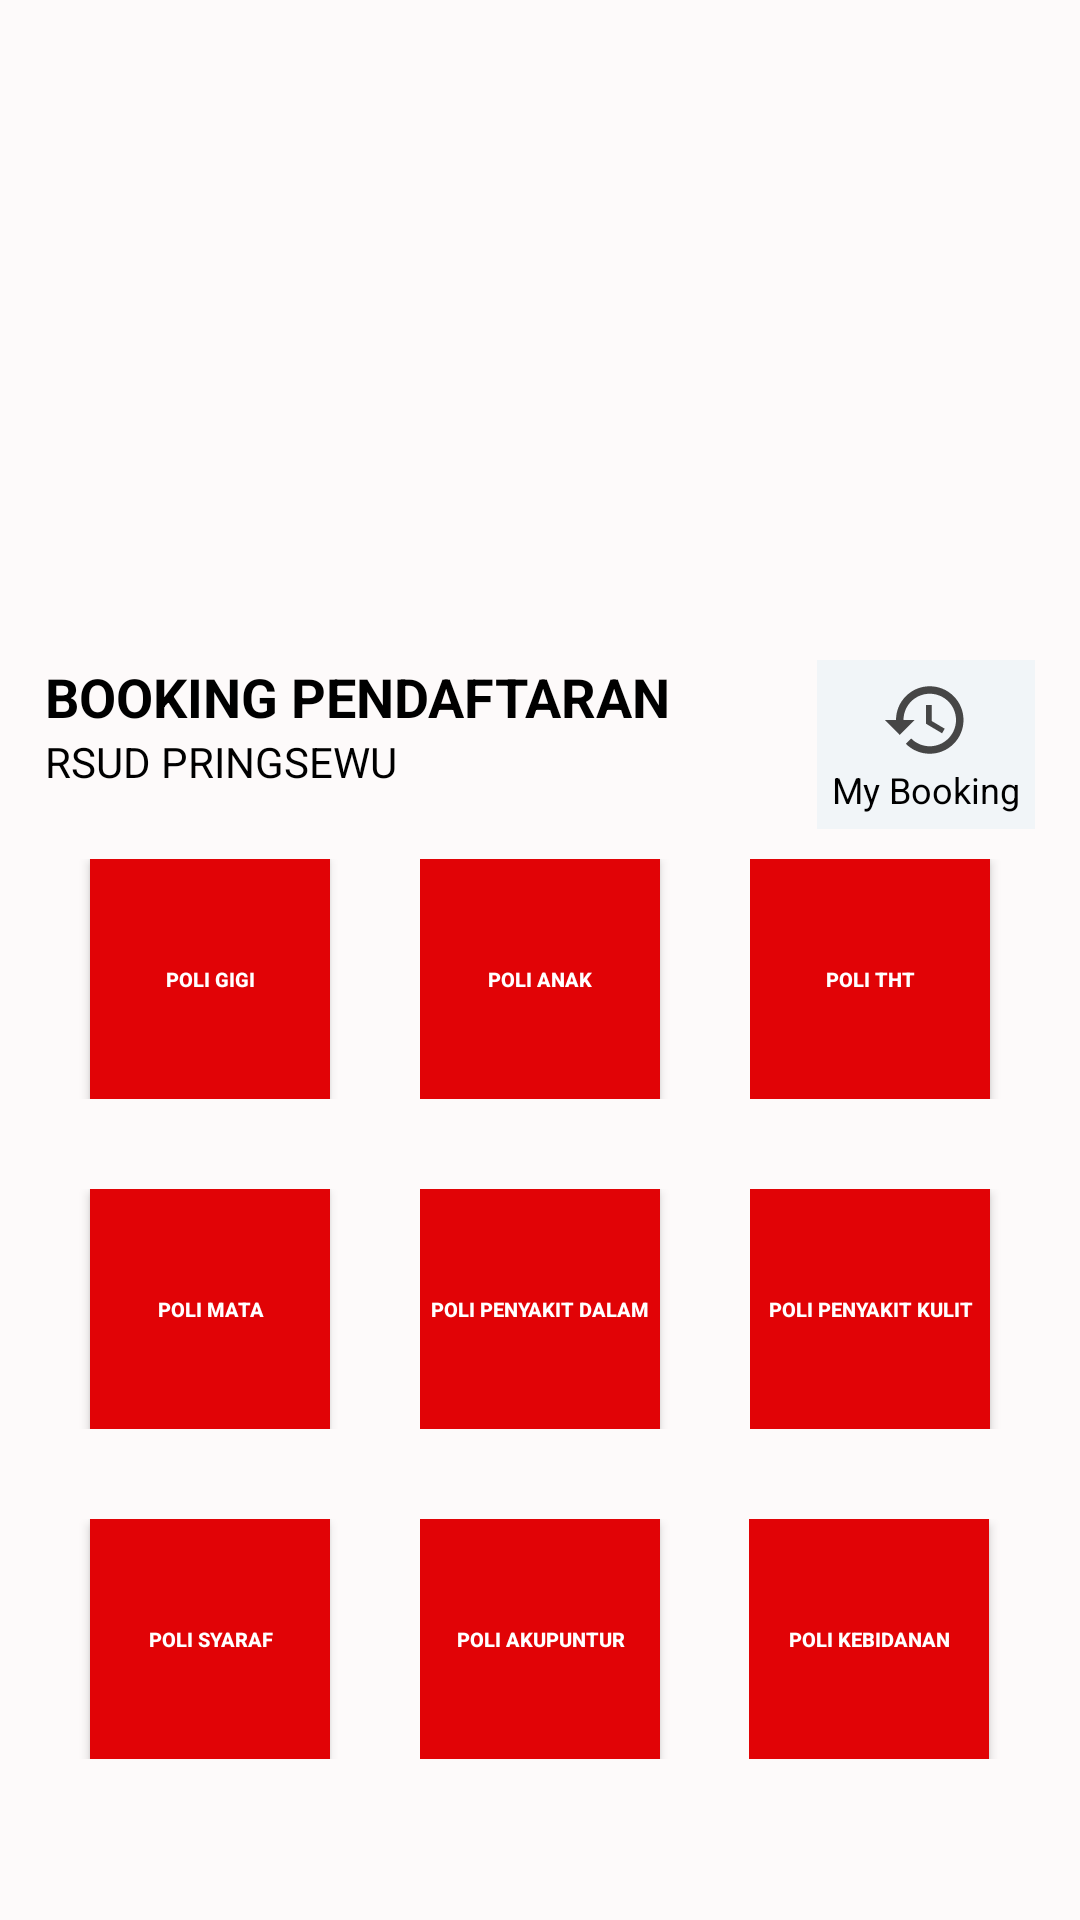

Locate icon controls on the screen. Image size 1080 × 1920, boxes as (x1, y1, x2, y2).
history: (885, 686, 964, 754)
